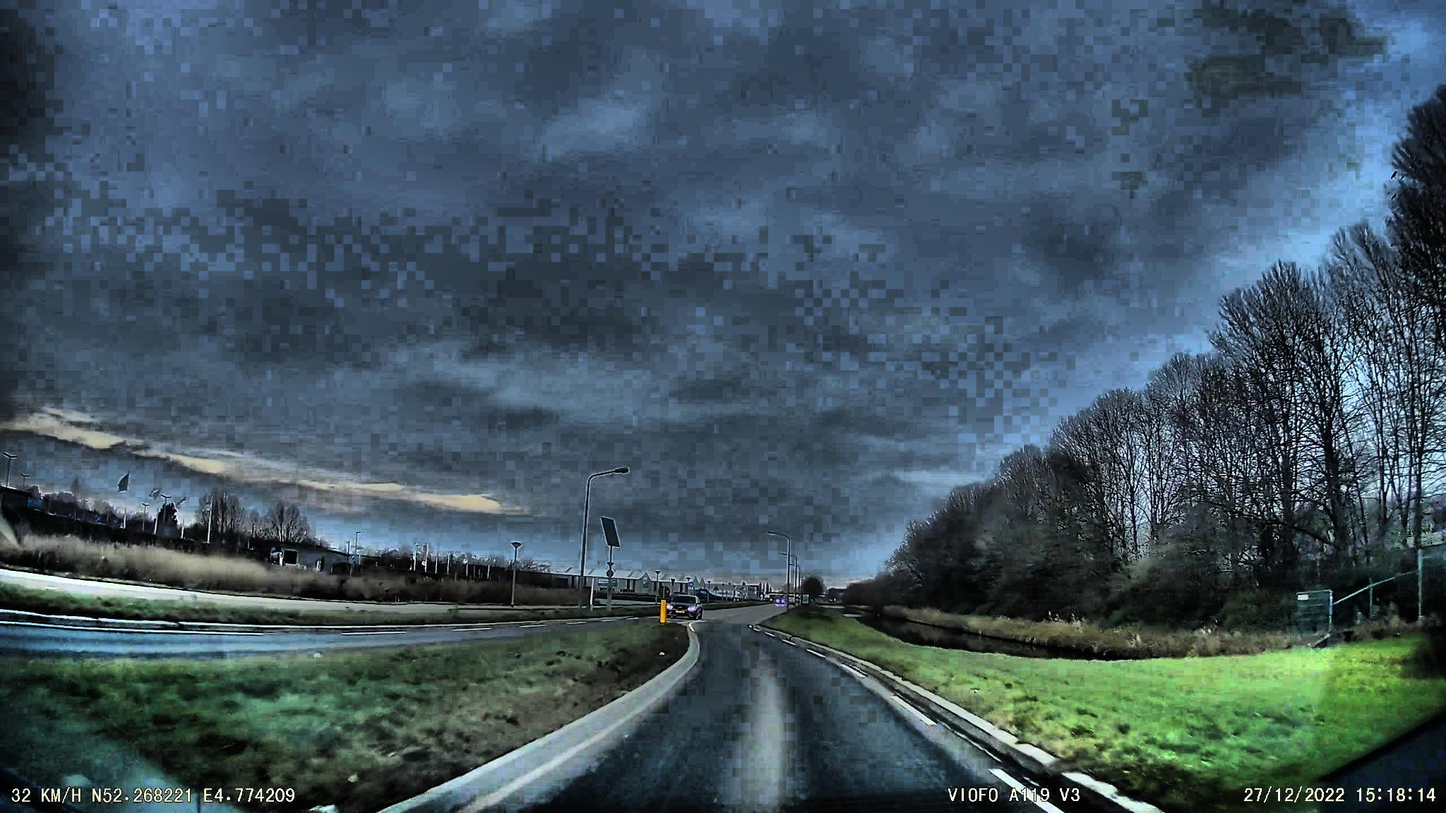Roads: (371, 617, 1165, 813)
